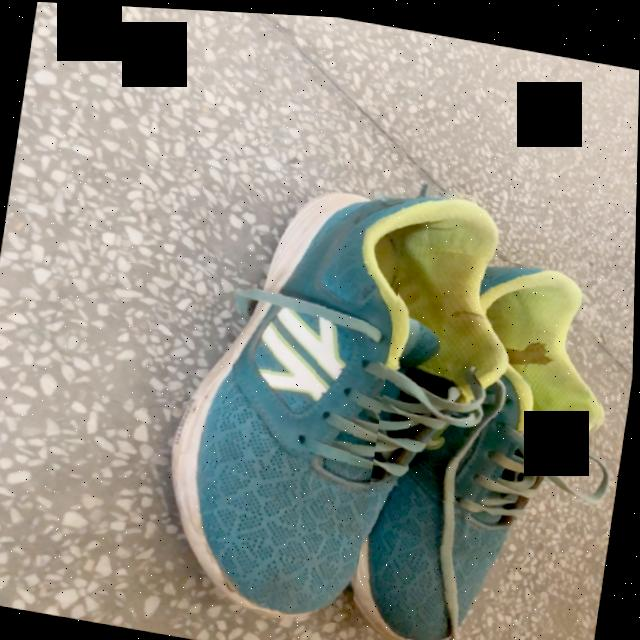shoe: (184, 189, 520, 615), (358, 263, 599, 640)
